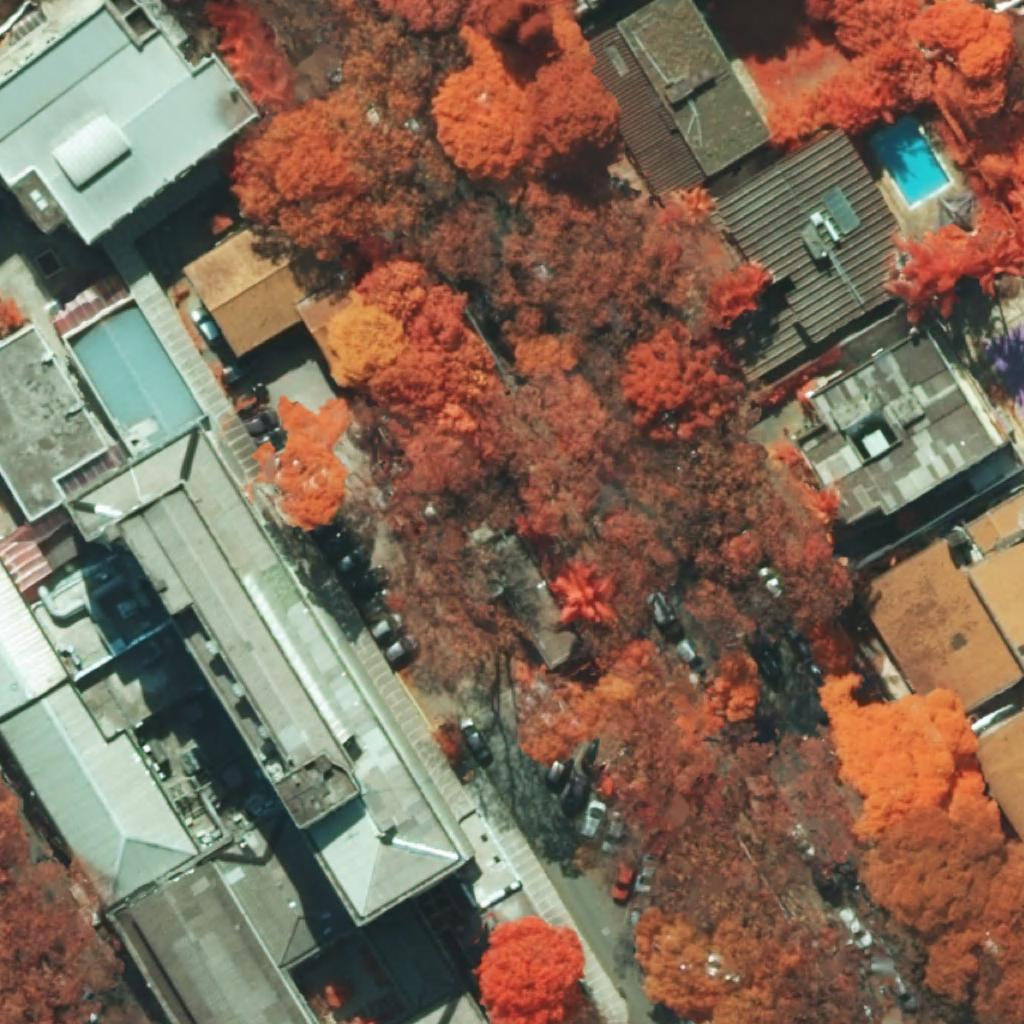pool: (867, 118, 950, 206)
